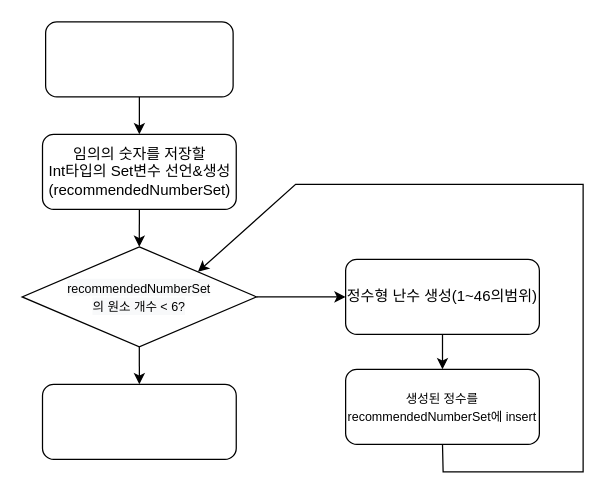
This 615x504 diagram has some shape labels left out. Each missing label, with the box of its shape:
recommendedNumberSet 반환 후 함수 종료: (41, 383, 236, 459)
recommendNumberSet 함수 호출: (44, 21, 233, 97)
